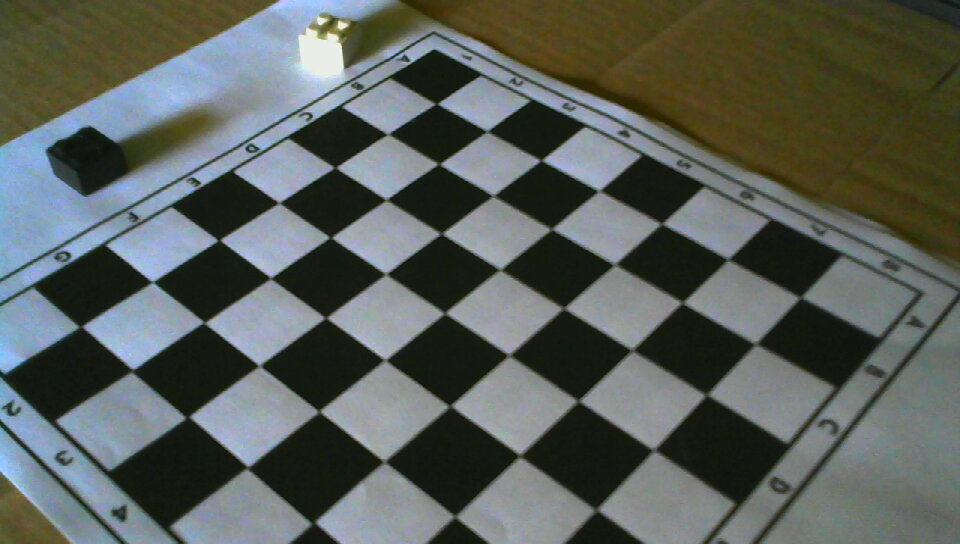bp: (48, 125, 127, 197)
wp: (297, 12, 366, 69)
